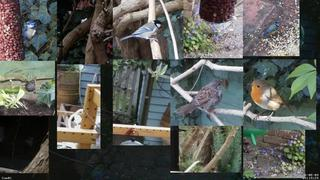blue tit: (20, 20, 37, 45), (263, 20, 280, 36)
dunnock: (174, 79, 223, 116)
great tit: (119, 20, 164, 42)
robin: (247, 79, 296, 124)
sparrow: (22, 81, 35, 94)
